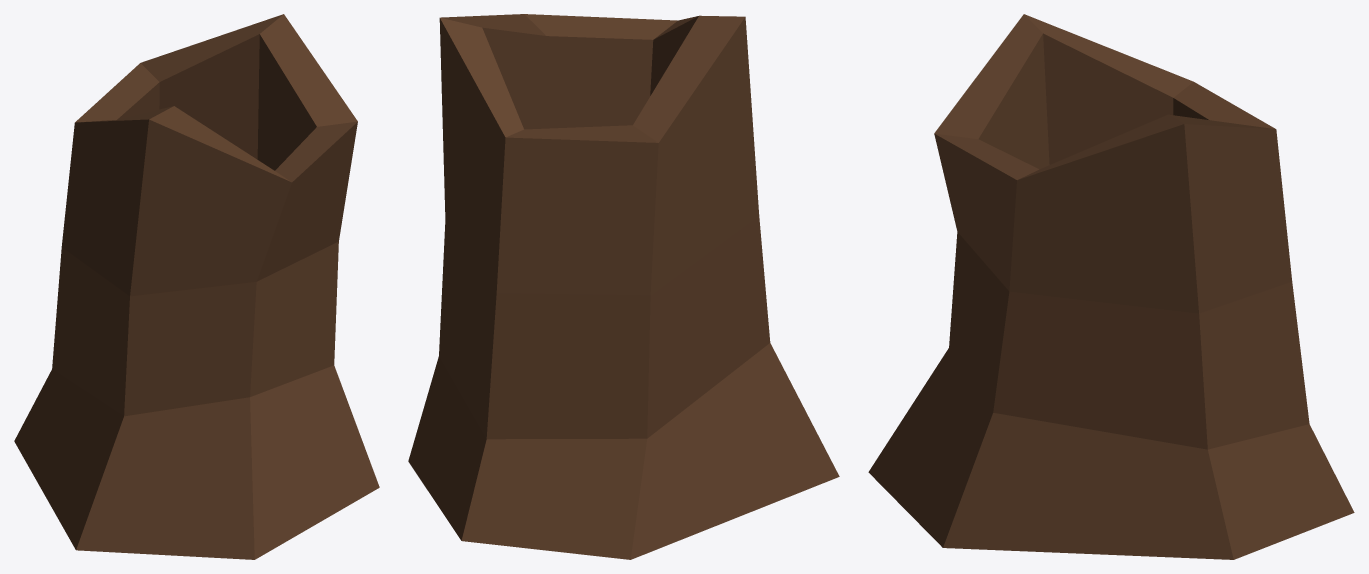
File: TreeStump_1.fbx
3 renders of one model, left to right at view 1: azimuth 30°, elevation 25°; view 2: azimuth 150°, elevation 25°; view 3: azimuth 270°, elevation 25°, orthographic. The views are drawn at different scales.
Visible parts, largest first — view 1: TreeStump_1; view 2: TreeStump_1; view 3: TreeStump_1.
Part boxes in pixels (box(x1,y1,x2,y2)): TreeStump_1: box(14, 14, 379, 559); TreeStump_1: box(408, 14, 839, 559); TreeStump_1: box(868, 14, 1354, 559).
Size of the model in its own units: 132 by 176 by 172.
